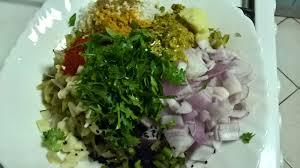Organic: (18, 0, 264, 168)
